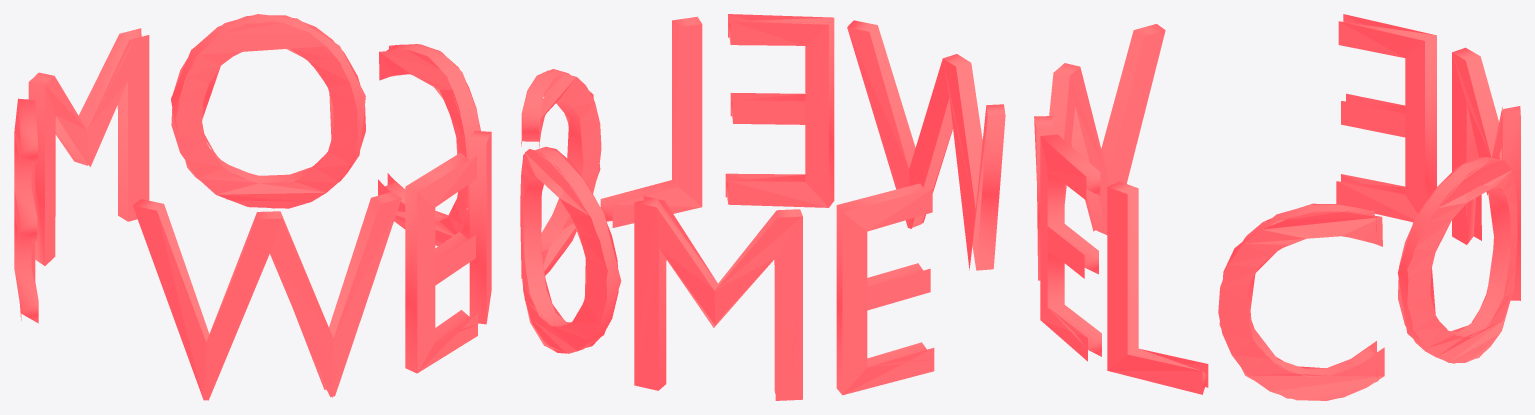
Rendered from текст.fbx.
The picture shows the model from 3 angles, left to right: view 1: azimuth 30°, elevation 25°; view 2: azimuth 150°, elevation 25°; view 3: azimuth 270°, elevation 25°; orthographic projection.
Parts seen in each view (by area): view 1: Text; view 2: Text; view 3: Text.
Part boxes in pixels (x1,y1,x2,y2): Text: [14, 14, 491, 400]; Text: [520, 14, 1005, 400]; Text: [1034, 14, 1520, 400].
Bounding box in the file's own units: 225 × 98.86 × 229.
